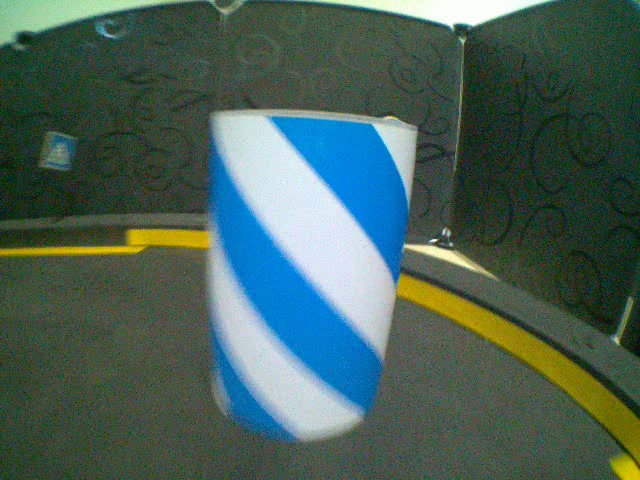bucket: (206, 106, 420, 440)
